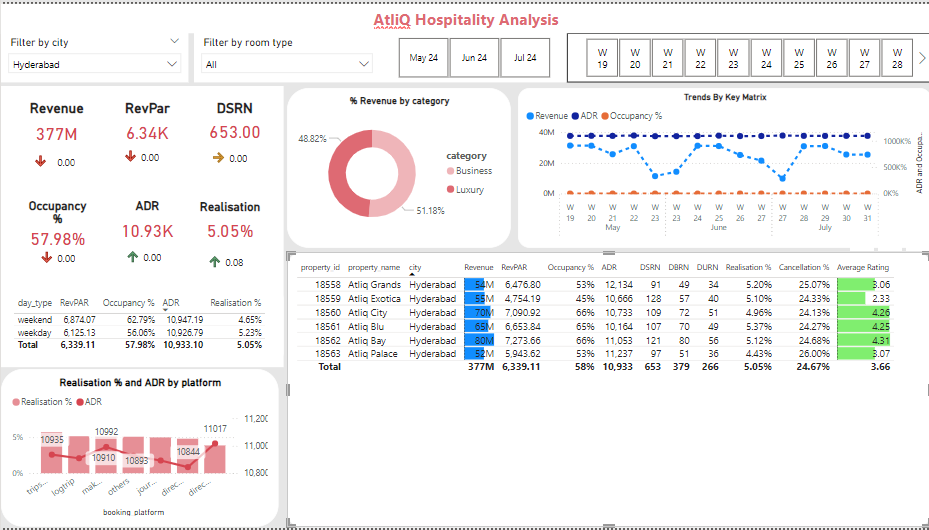

What the dashboard file says about the page in this screenshot:
{"tool":"powerbi","page":{"name":"Home","canvas":[1280,720],"ordinal":0},"visuals":[{"type":"tableEx","fields":{"Values":["dim_hotals.property_id","dim_hotals.property_name","dim_hotals.city","key_measure (2).Revenue","key_measure (2).RevPAR","key_measure (2).Occupancy %","key_measure (2).ADR","key_measure (2).DSRN","key_measure (2).DBRN","key_measure (2).DURN","key_measure (2).Realisation %","key_measure (2).Cancellation %"]},"box":[393.1,341.3,887,378.7],"z":0},{"type":"slicer","fields":{"Values":["dim_hotals.city"]},"box":[0,40.3,257.8,67.7],"z":1000,"group":"g2"},{"type":"slicer","fields":{"Values":["dim_date.mmm yy"]},"box":[521.3,40.3,257.8,67.7],"z":1000},{"type":"slicer","fields":{"Values":["dim_rooms.room_class"]},"box":[265,40.3,256.3,67.7],"z":2000,"group":"g2"},{"type":"slicer","fields":{"Values":["dim_date.week no"]},"box":[779,40.3,501.1,67.7],"z":2000},{"type":"donutChart","title":"% Revenue by category","fields":{"Category":["dim_hotals.category"],"Y":["key_measure (2).Occupancy %"]},"box":[393.1,115.2,308.2,220.3],"z":3000},{"type":"lineChart","title":"Trends By Key Matrix","fields":{"Category":["dim_date.mmm yy.Variation.Date Hierarchy.Month","dim_date.week no"],"Y":["key_measure (2).Revenue"],"Y2":["key_measure (2).ADR","key_measure (2).Occupancy %"]},"box":[711.4,115.2,568.8,220.3],"z":4000},{"type":"lineStackedColumnComboChart","title":"Realisation % and ADR by platform","fields":{"Category":["fact_booking.booking_platform"],"Y":["key_measure (2).Realisation %"],"Y2":["key_measure (2).ADR"]},"box":[0,502.6,381.6,217.4],"z":5000},{"type":"actionButton","box":[0,112.3,388.8,387.4],"z":6000},{"type":"tableEx","title":"Revenue","fields":{"Values":["key_measure (2).Occupancy WoW change %"]},"box":[43.2,306.7,69.1,67.7],"z":6000,"group":"g1"},{"type":"tableEx","title":"Revenue","fields":{"Values":["key_measure (2).ADR WoW change %"]},"box":[162.7,305.3,76.3,63.4],"z":7000},{"type":"tableEx","title":"Revenue","fields":{"Values":["key_measure (2).Revpar WoW change %"]},"box":[158.4,167,80.6,76.3],"z":8000},{"type":"tableEx","fields":{"Values":["dim_date.day_type","key_measure (2).RevPAR","key_measure (2).Occupancy %","key_measure (2).ADR","key_measure (2).Realisation %"]},"box":[7.2,391.7,381.6,100.8],"z":9000},{"type":"tableEx","title":"Revenue","fields":{"Values":["key_measure (2).DSRN WoW change %"]},"box":[280.8,169.9,79.2,57.6],"z":10000},{"type":"card","title":"Occupancy %","fields":{"Values":["key_measure (2).Occupancy %"]},"box":[25.9,266.4,103.7,72.8],"z":11000,"group":"g1"},{"type":"card","title":"ADR","fields":{"Values":["key_measure (2).ADR"]},"box":[144,266.4,113.8,69.1],"z":11000},{"type":"tableEx","title":"Revenue","fields":{"Values":["key_measure (2).Realisation WoW change %"]},"box":[275,312.5,80.6,61.9],"z":12000},{"type":"tableEx","title":"Revenue","fields":{"Values":["key_measure (2).Revenue WoW change %"]},"box":[34.6,172.8,85,66.2],"z":13000},{"type":"card","title":"Realisation","fields":{"Values":["key_measure (2).Realisation %"]},"box":[265,267.8,99.4,67.7],"z":14000},{"type":"card","title":"DSRN","fields":{"Values":["key_measure (2).DSRN"]},"box":[265,132.5,112.3,65.1],"z":15000},{"type":"card","title":"RevPar","fields":{"Values":["key_measure (2).RevPAR"]},"box":[144,132.5,113.8,66.6],"z":16000},{"type":"card","title":"Revenue","fields":{"Values":["key_measure (2).Revenue"]},"box":[21.6,132.5,109.4,70],"z":17000},{"type":"group","id":"g1","title":"Group 1","box":[25.9,266.4,103.7,108],"z":18000},{"type":"group","id":"g2","title":"Group 2","box":[0,40.3,521.3,67.7],"z":19000},{"type":"textbox","box":[0,0,1280.2,40.3],"z":20000}]}

Visuals, with their boxes in screenshot pixels (x1, y1, x2, y2), scaled from the page's 1280x720 canvas onto the 929x530 screenshot:
tableEx - dim_hotals.property_id x dim_hotals.property_name: [x1=285, y1=251, x2=928, y2=529]
slicer - dim_hotals.city: [x1=0, y1=30, x2=187, y2=80]
slicer - dim_date.mmm yy: [x1=378, y1=30, x2=565, y2=80]
slicer - dim_rooms.room_class: [x1=192, y1=30, x2=378, y2=80]
slicer - dim_date.week no: [x1=565, y1=30, x2=928, y2=80]
"% Revenue by category" donutChart: [x1=285, y1=85, x2=509, y2=247]
"Trends By Key Matrix" lineChart: [x1=516, y1=85, x2=928, y2=247]
"Realisation % and ADR by platform" lineStackedColumnComboChart: [x1=0, y1=370, x2=277, y2=529]
actionButton: [x1=0, y1=83, x2=282, y2=368]
"Revenue" tableEx: [x1=31, y1=226, x2=82, y2=276]
"Revenue" tableEx: [x1=118, y1=225, x2=173, y2=271]
"Revenue" tableEx: [x1=115, y1=123, x2=173, y2=179]
tableEx - dim_date.day_type x key_measure (2).RevPAR: [x1=5, y1=288, x2=282, y2=363]
"Revenue" tableEx: [x1=204, y1=125, x2=261, y2=167]
"Occupancy %" card: [x1=19, y1=196, x2=94, y2=250]
"ADR" card: [x1=105, y1=196, x2=187, y2=247]
"Revenue" tableEx: [x1=200, y1=230, x2=258, y2=276]
"Revenue" tableEx: [x1=25, y1=127, x2=87, y2=176]
"Realisation" card: [x1=192, y1=197, x2=264, y2=247]
"DSRN" card: [x1=192, y1=98, x2=274, y2=145]
"RevPar" card: [x1=105, y1=98, x2=187, y2=147]
"Revenue" card: [x1=16, y1=98, x2=95, y2=149]
"Group 1" group: [x1=19, y1=196, x2=94, y2=276]
"Group 2" group: [x1=0, y1=30, x2=378, y2=80]
textbox: [x1=0, y1=0, x2=928, y2=30]
